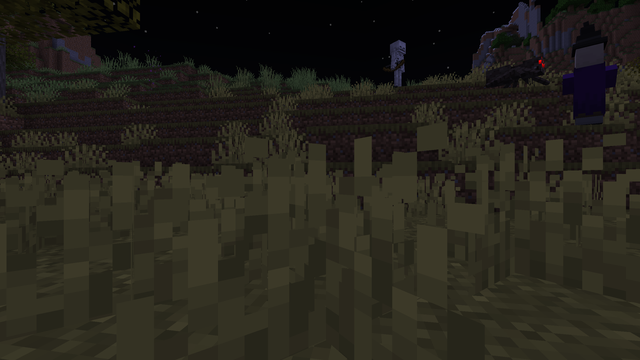araignees: (488, 51, 553, 87)
sorcieres: (565, 39, 613, 126)
squelettes: (390, 40, 404, 89)
